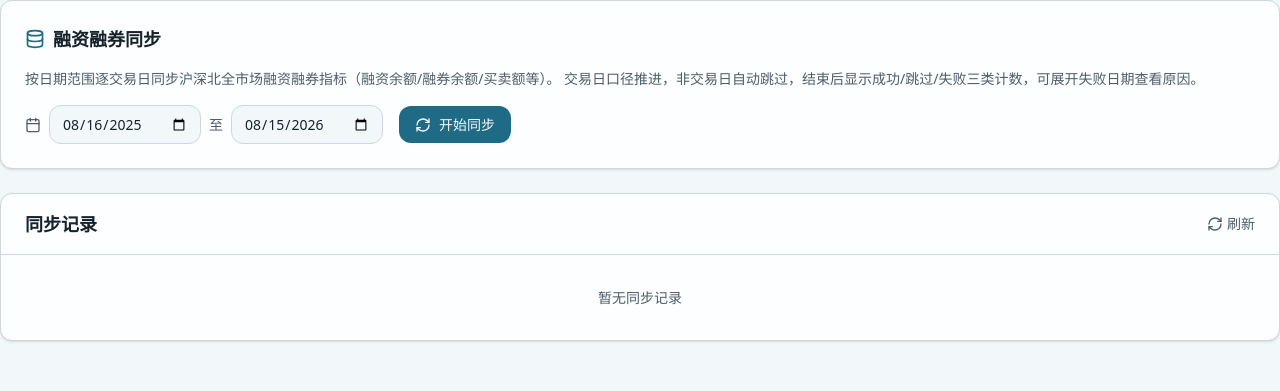
MarginSyncPanel › 默认渲染与前端校验 › 起止倒置：按钮禁用 + 行内错误提示
Type "2026-08-10" into the date field named "开始日期".
click(125, 124); type("2026-08-10")  # box [49,105,201,144]
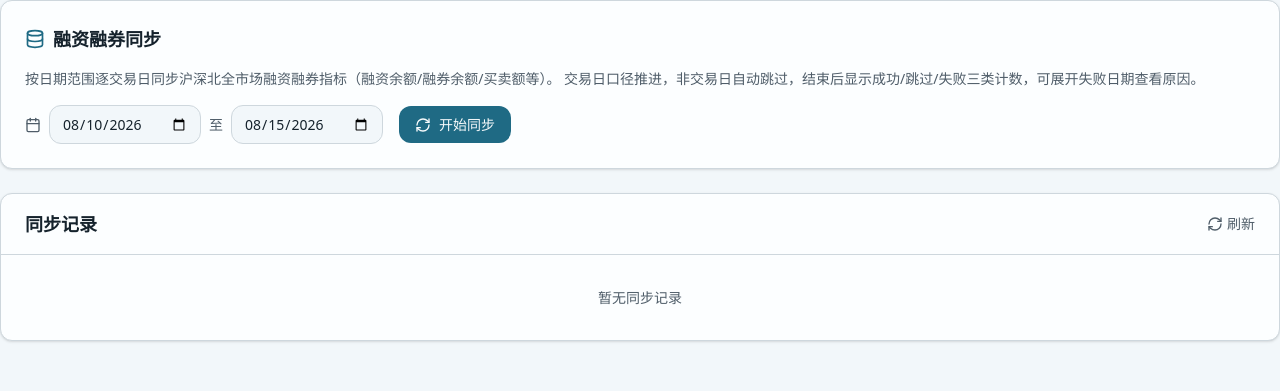
Type "2026-08-01" into the date field named "结束日期".
click(307, 124); type("2026-08-01")  # box [231,105,383,144]
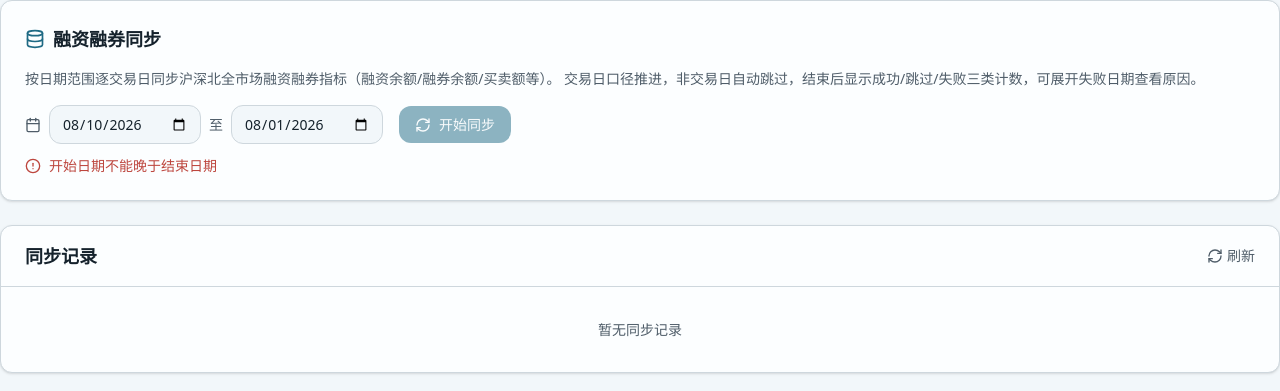
Expected: the button with test id "margin-sync-start-button" is disabled, [399,106,511,143]
Expected: the element with test id "margin-sync-validation-error" shows "不能晚于", [49,156,217,175]
